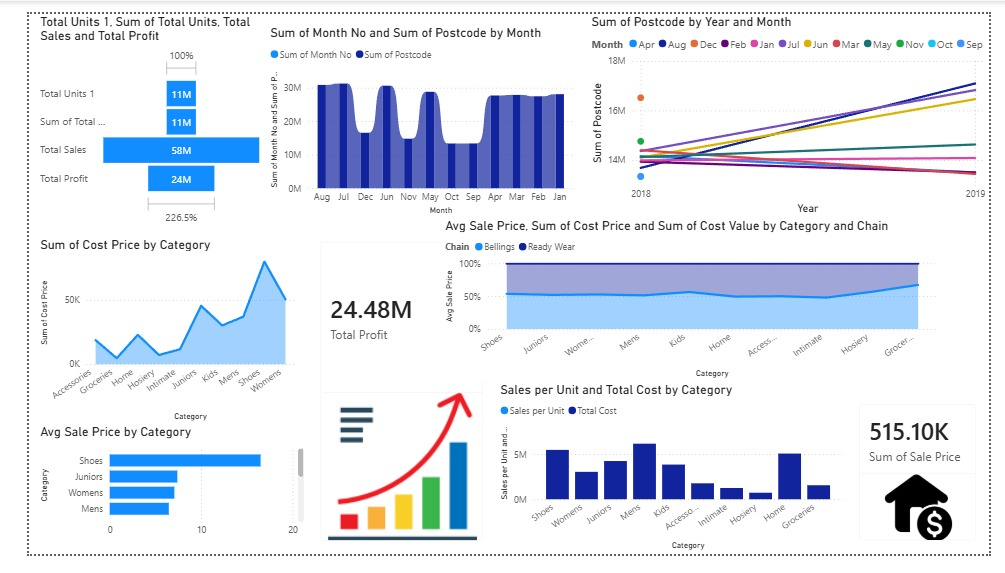

The page's visual inventory and layout, read from the dashboard file:
{"tool":"powerbi","page":{"name":"Page 1","canvas":[1280,720],"ordinal":0},"visuals":[{"type":"funnel","fields":{"Y":["Data.Total Units 1","Sum(Data.Total Units)","Data.Total Sales","Data.Total Profit"]},"box":[10,0,307.2,287.3],"z":0},{"type":"stackedAreaChart","fields":{"Category":["Data.Chain","Data.Category"],"Y":["Sum(Data.Cost Price)"]},"box":[10,297.2,348.4,250.3],"z":1000},{"type":"ribbonChart","fields":{"Category":["Data.Month"],"Y":["Sum(Data.Month No)","Sum(Data.Postcode)"]},"box":[317.2,14.2,413.9,257.4],"z":2000},{"type":"lineChart","fields":{"Category":["Data.Date.Variation.Date Hierarchy.Year","Data.Date.Variation.Date Hierarchy.Quarter","Data.Date.Variation.Date Hierarchy.Month","Data.Date.Variation.Date Hierarchy.Day"],"Series":["Data.Month"],"Y":["Sum(Data.Postcode)"]},"box":[745.2,0,534.8,271.6],"z":3000},{"type":"cardVisual","fields":{"Data":["Data.Total Profit"]},"box":[371.7,286.7,251.7,433.3],"z":5000},{"type":"cardVisual","fields":{"Data":["Sum(Data.Sale Price)"]},"box":[1090,503.3,190,216.7],"z":5001},{"type":"barChart","fields":{"Category":["Data.Category"],"Y":["Data.Avg Sale Price"]},"box":[10,546.7,361.7,160],"z":5002},{"type":"hundredPercentStackedAreaChart","fields":{"Category":["Data.Category"],"Series":["Data.Chain"],"Y":["Data.Avg Sale Price"]},"box":[550,271.7,665,218.3],"z":5003},{"type":"lineStackedColumnComboChart","fields":{"Category":["Data.Category"],"Y":["Data.Sales per Unit","Data.Total Cost"]},"box":[624,490,466,230],"z":5004}]}

Visuals, with their boxes in screenshot pixels (x1, y1, x2, y2), scaled from the page's 1280x720 canvas onto the 1005x573 screenshot:
funnel - Data.Total Units 1 x Sum(Data.Total Units): (8,0,249,229)
stackedAreaChart - Data.Chain x Data.Category: (8,237,281,436)
ribbonChart - Data.Month x Sum(Data.Month No): (249,11,574,216)
lineChart - Data.Date.Variation.Date Hierarchy.Year x Data.Date.Variation.Date Hierarchy.Quarter: (585,0,1004,216)
cardVisual - Data.Total Profit: (292,228,489,572)
cardVisual - Sum(Data.Sale Price): (856,401,1004,572)
barChart - Data.Category x Data.Avg Sale Price: (8,435,292,562)
hundredPercentStackedAreaChart - Data.Category x Data.Chain: (432,216,954,390)
lineStackedColumnComboChart - Data.Category x Data.Sales per Unit: (490,390,856,572)
